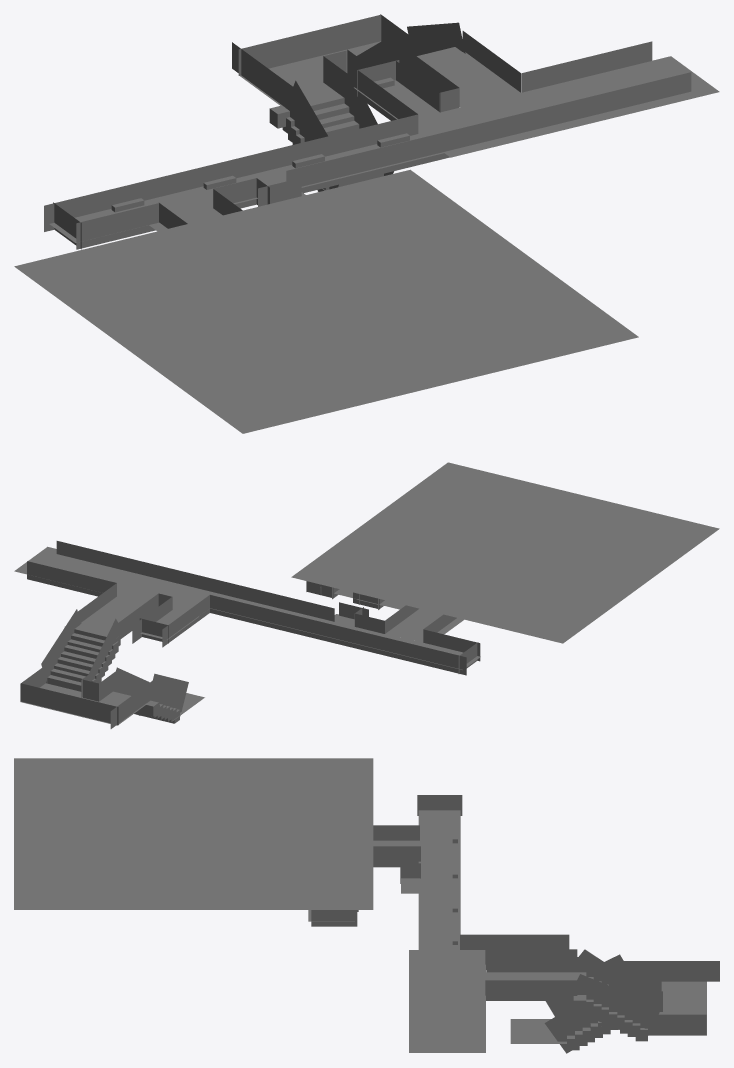
File: 2thSurface.obj
The picture shows the model from 3 angles, top to bottom: view 1: azimuth 30°, elevation 25°; view 2: azimuth 150°, elevation 25°; view 3: azimuth 270°, elevation 25°; orthographic projection. The views are drawn at different scales.
Parts seen in each view (by area): view 1: Plane(0), Plane(18), Plane(39), Plane(16), Plane(29), Plane(38), Plane(22), Plane(43), Plane(7), Plane(44), Plane(24), Plane(33) (+12 smaller); view 2: Plane(0), Plane(16), Plane(18), Plane(39), Plane(29), Plane(22), Plane(38), Plane(43), Plane(40), Plane(48), Plane(24), Plane(31) (+8 smaller); view 3: Plane(0), Plane(39), Plane(38), Plane(31), Plane(33), Plane(23), Plane(24), Plane(44), Plane(28), Plane(32), Plane(30), Plane(49) (+7 smaller).
Part boxes in pixels (x1,y1,x2,y2): Plane(0): (14, 169, 638, 433); Plane(18): (286, 72, 691, 193); Plane(39): (418, 56, 719, 157); Plane(16): (44, 114, 418, 231); Plane(29): (238, 14, 381, 75); Plane(38): (49, 134, 443, 242); Plane(22): (521, 41, 652, 92); Plane(43): (424, 52, 520, 107); Plane(7): (76, 203, 158, 249); Plane(44): (239, 41, 380, 105); Plane(24): (348, 63, 417, 120); Plane(33): (232, 42, 292, 106); Plane(0): (291, 462, 719, 643); Plane(16): (210, 595, 466, 675); Plane(18): (56, 541, 334, 621); Plane(39): (14, 546, 226, 612); Plane(29): (21, 683, 118, 725); Plane(22): (27, 561, 116, 596); Plane(38): (210, 595, 480, 669); Plane(43): (80, 596, 144, 632); Plane(40): (386, 608, 463, 642); Plane(48): (147, 673, 188, 716); Plane(24): (162, 595, 209, 647); Plane(31): (41, 609, 81, 683); Plane(0): (14, 758, 373, 909); Plane(39): (409, 950, 485, 1052); Plane(38): (418, 810, 460, 949); Plane(31): (564, 974, 661, 1029); Plane(33): (622, 961, 719, 981); Plane(23): (485, 980, 577, 1000); Plane(24): (460, 934, 569, 949); Plane(44): (648, 981, 706, 1035); Plane(28): (486, 957, 579, 972); Plane(32): (644, 1014, 706, 1035); Plane(30): (579, 949, 647, 1000); Plane(49): (510, 1019, 566, 1043).
Bounding box in the file's own units: 184 × 34.93 × 196.
